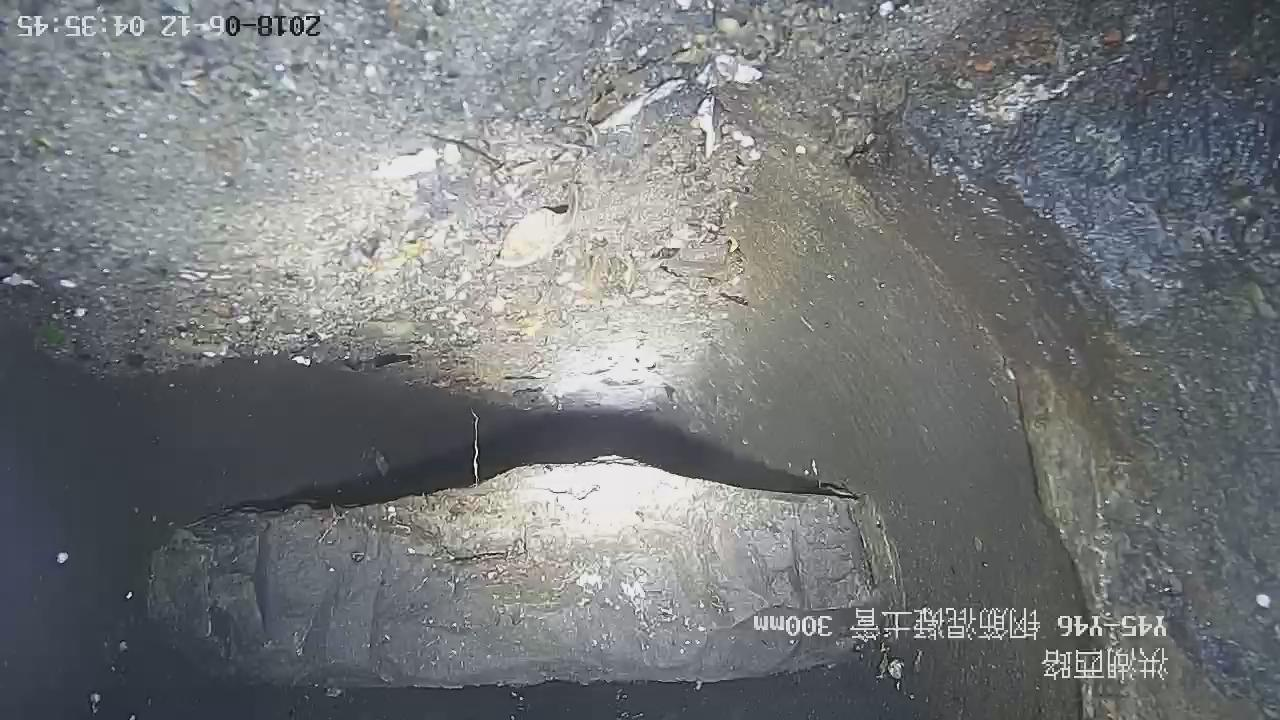CJ: (1, 1, 981, 427)
YWCR: (150, 455, 894, 688)
